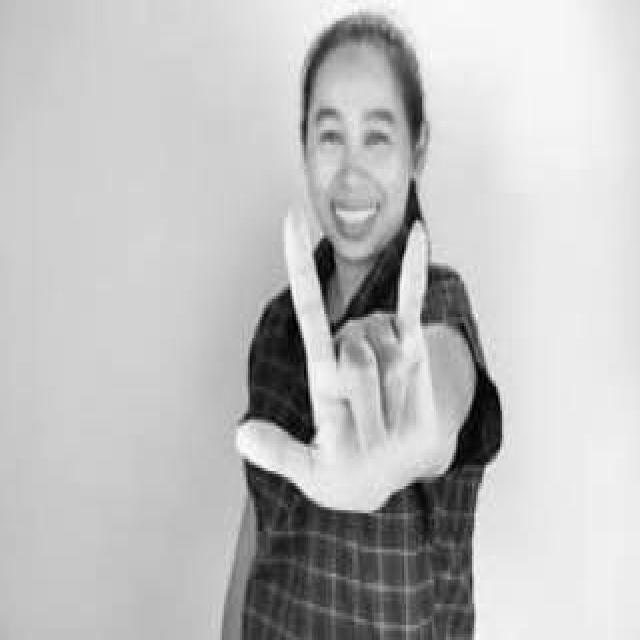i love you: (229, 200, 452, 525)
